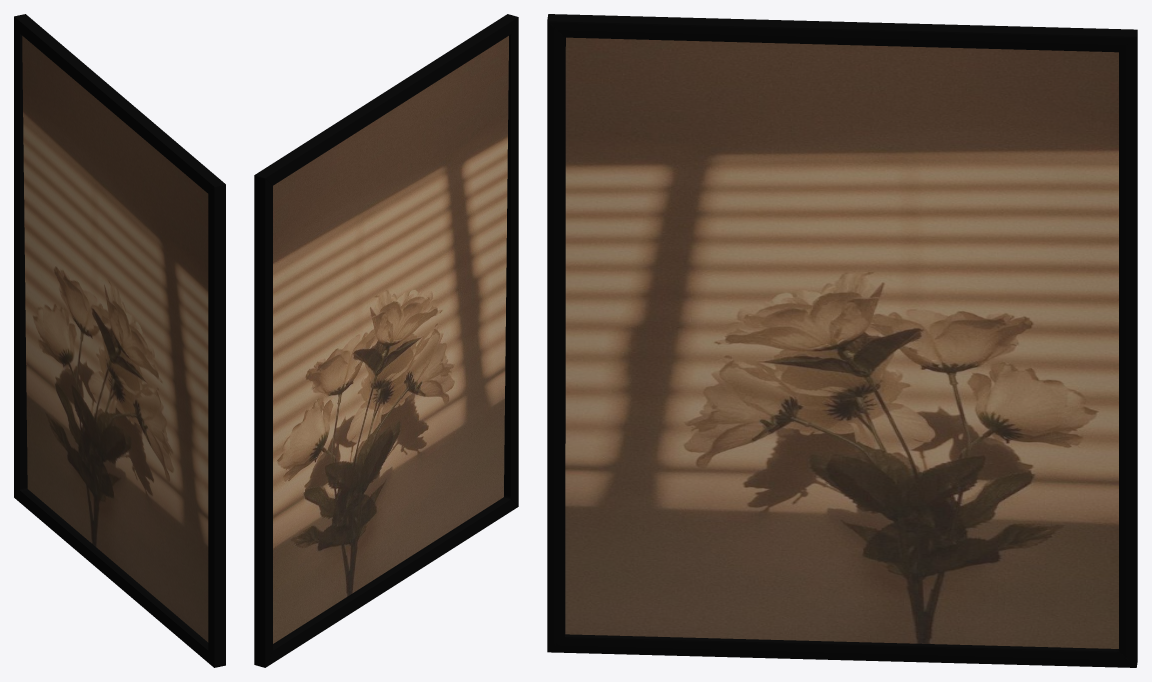
Rendered from PhotoFrame2.glb.
3 views of the same model, side by side, from view 1: azimuth 30°, elevation 25°; view 2: azimuth 150°, elevation 25°; view 3: azimuth 270°, elevation 25° (orthographic). The views are drawn at different scales.
Parts seen in each view (by area): view 1: DainTasker_Frame; view 2: DainTasker_Frame; view 3: DainTasker_Frame.
Part boxes in pixels (x1,y1,x2,y2): DainTasker_Frame: (14, 14, 225, 667); DainTasker_Frame: (254, 14, 518, 667); DainTasker_Frame: (547, 14, 1137, 667).
Size of the model in its own units: 0.2597 by 3.35 by 2.84.
2 materials, 1 textured.
